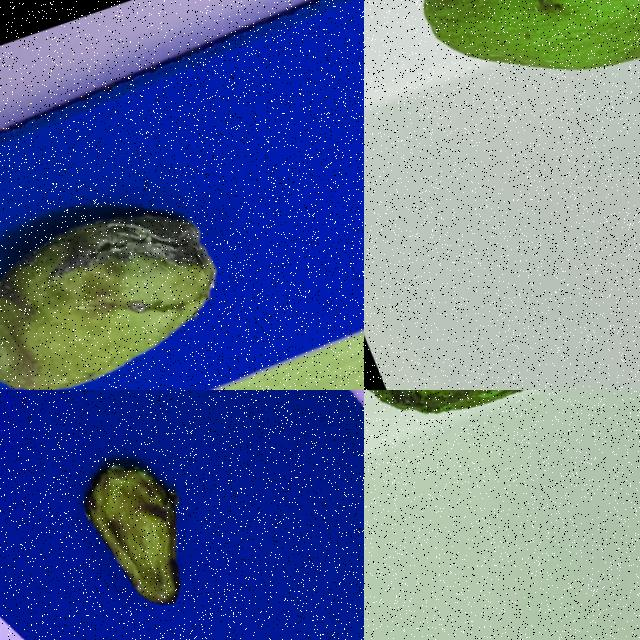Fine_cocoabeans: (0, 112, 335, 389), (364, 0, 639, 142), (364, 390, 639, 498)
Flat_cocoabeans: (0, 390, 313, 639)
